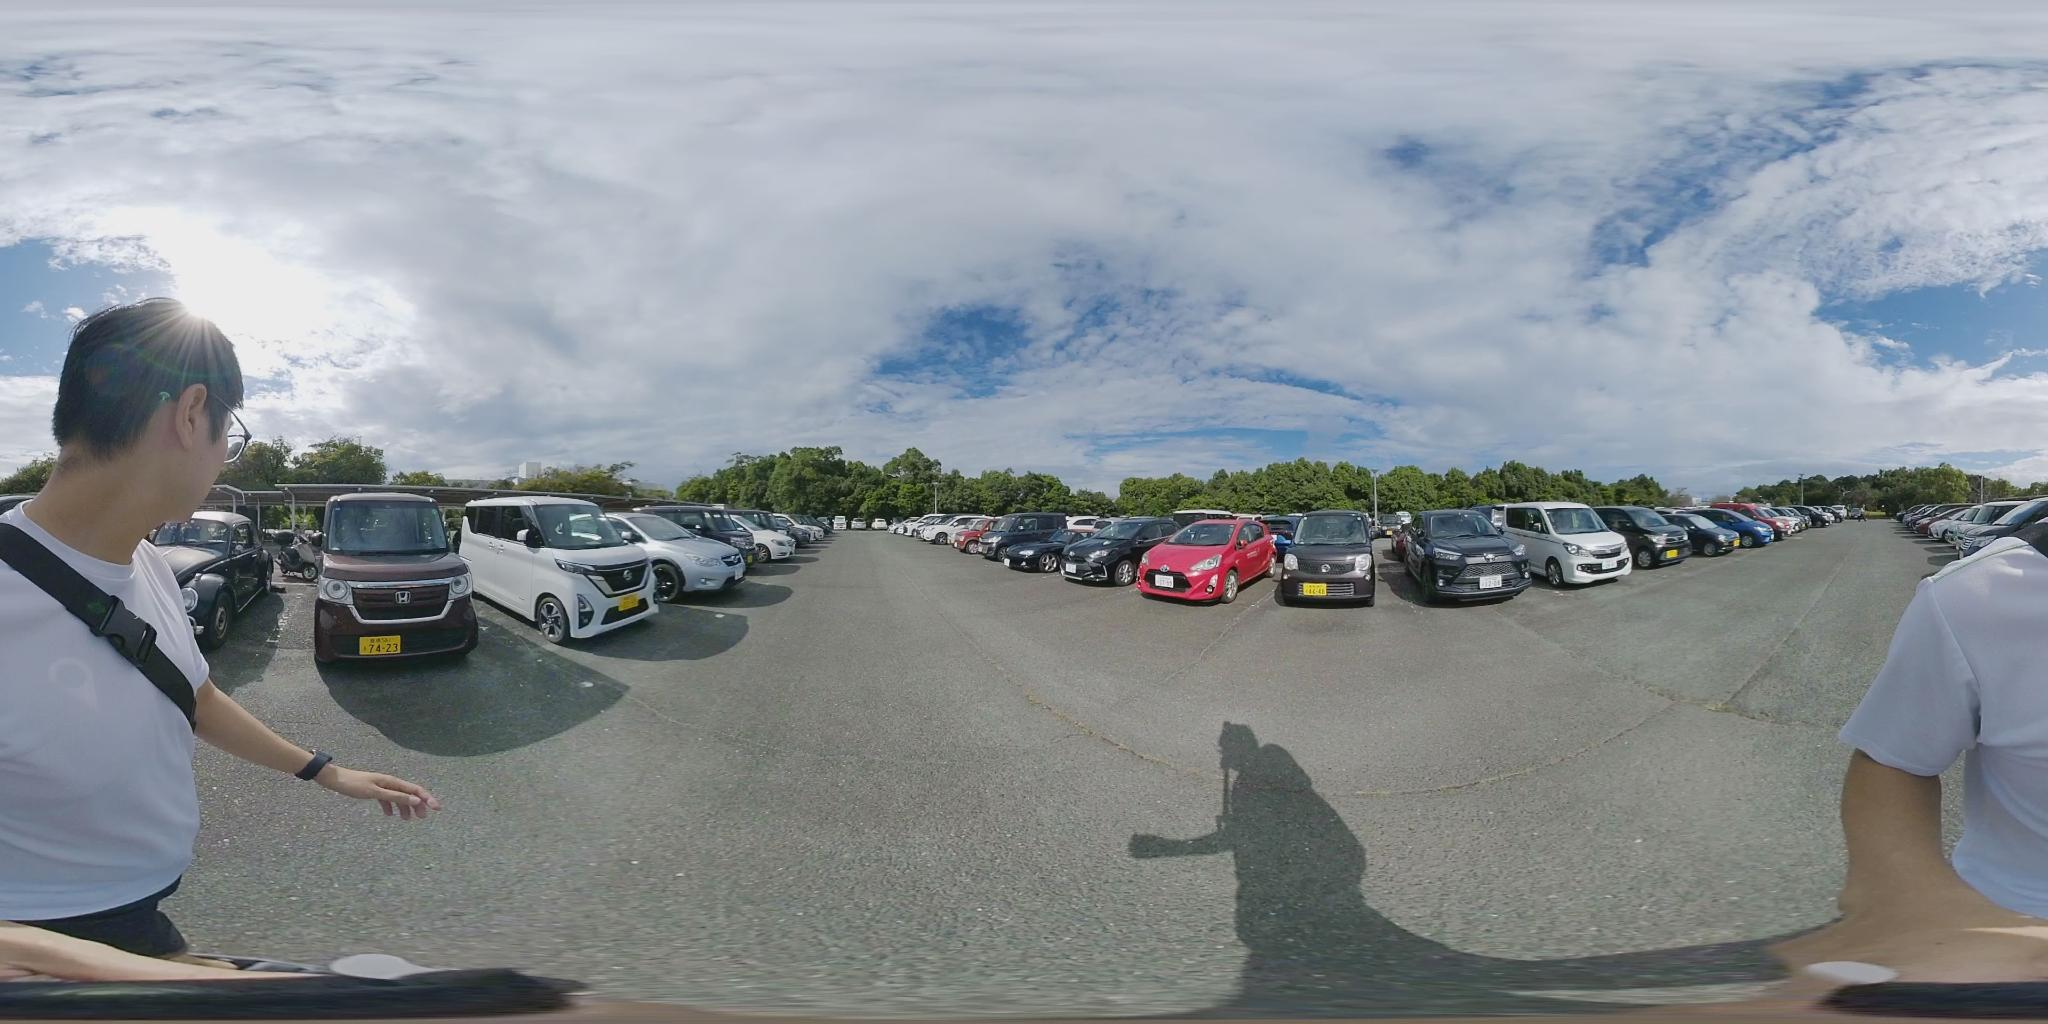car: (455, 503, 675, 641), (313, 492, 487, 666), (575, 508, 755, 597), (1392, 511, 1541, 603), (1132, 519, 1279, 602), (1498, 505, 1638, 588), (627, 505, 793, 567), (1285, 509, 1377, 609), (1055, 517, 1179, 583), (1932, 502, 2048, 556), (1597, 508, 1691, 568), (1674, 509, 1779, 554), (1712, 511, 1785, 547), (1753, 504, 1812, 533)
